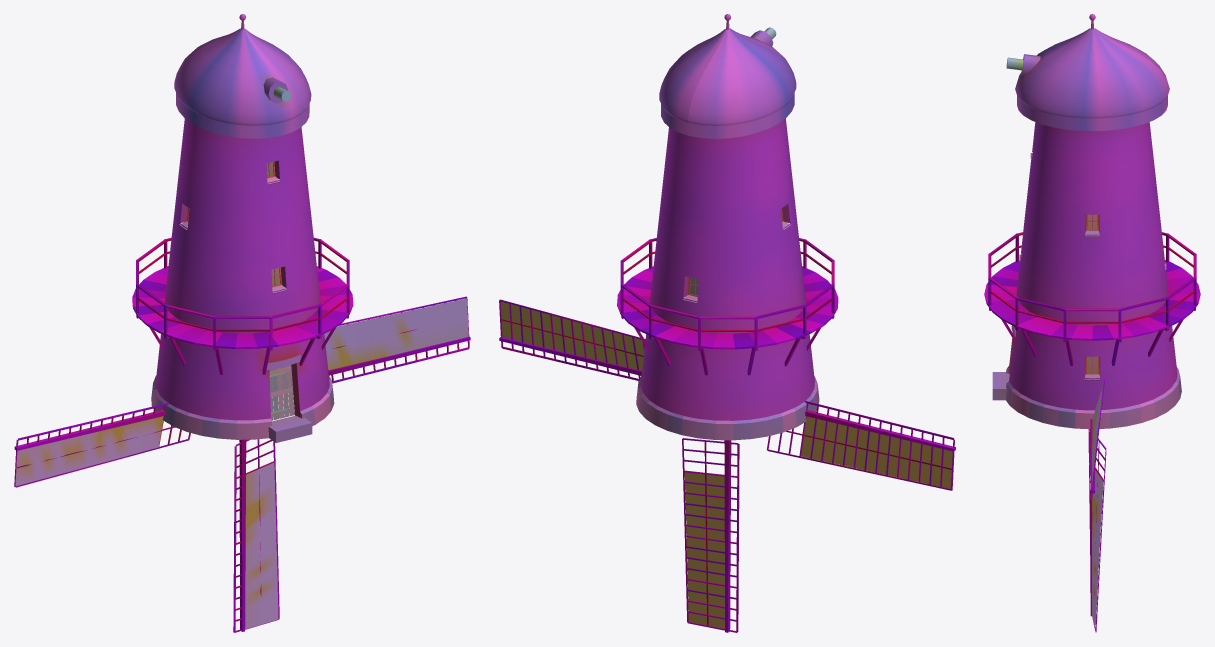
The model's file is verdant-props.glb.
The picture shows the model from 3 angles, left to right: view 1: azimuth 30°, elevation 25°; view 2: azimuth 150°, elevation 25°; view 3: azimuth 270°, elevation 25°; orthographic projection. The views are drawn at different scales.
Parts seen in each view (by area): view 1: windmill, windmill_sails; view 2: windmill, windmill_sails; view 3: windmill, windmill_sails.
Part boxes in pixels (x1=…): windmill: x1=132, y1=14, x2=353, y2=442; windmill_sails: x1=14, y1=296, x2=470, y2=632; windmill: x1=617, y1=14, x2=838, y2=440; windmill_sails: x1=499, y1=299, x2=955, y2=632; windmill: x1=984, y1=14, x2=1200, y2=429; windmill_sails: x1=1088, y1=233, x2=1106, y2=632.
Size of the model in its own units: 18.4 by 23.89 by 7.78.
